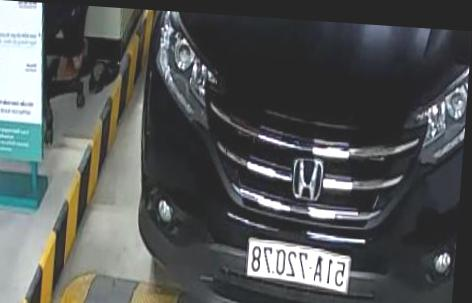License_Plate: (242, 240, 353, 293)
